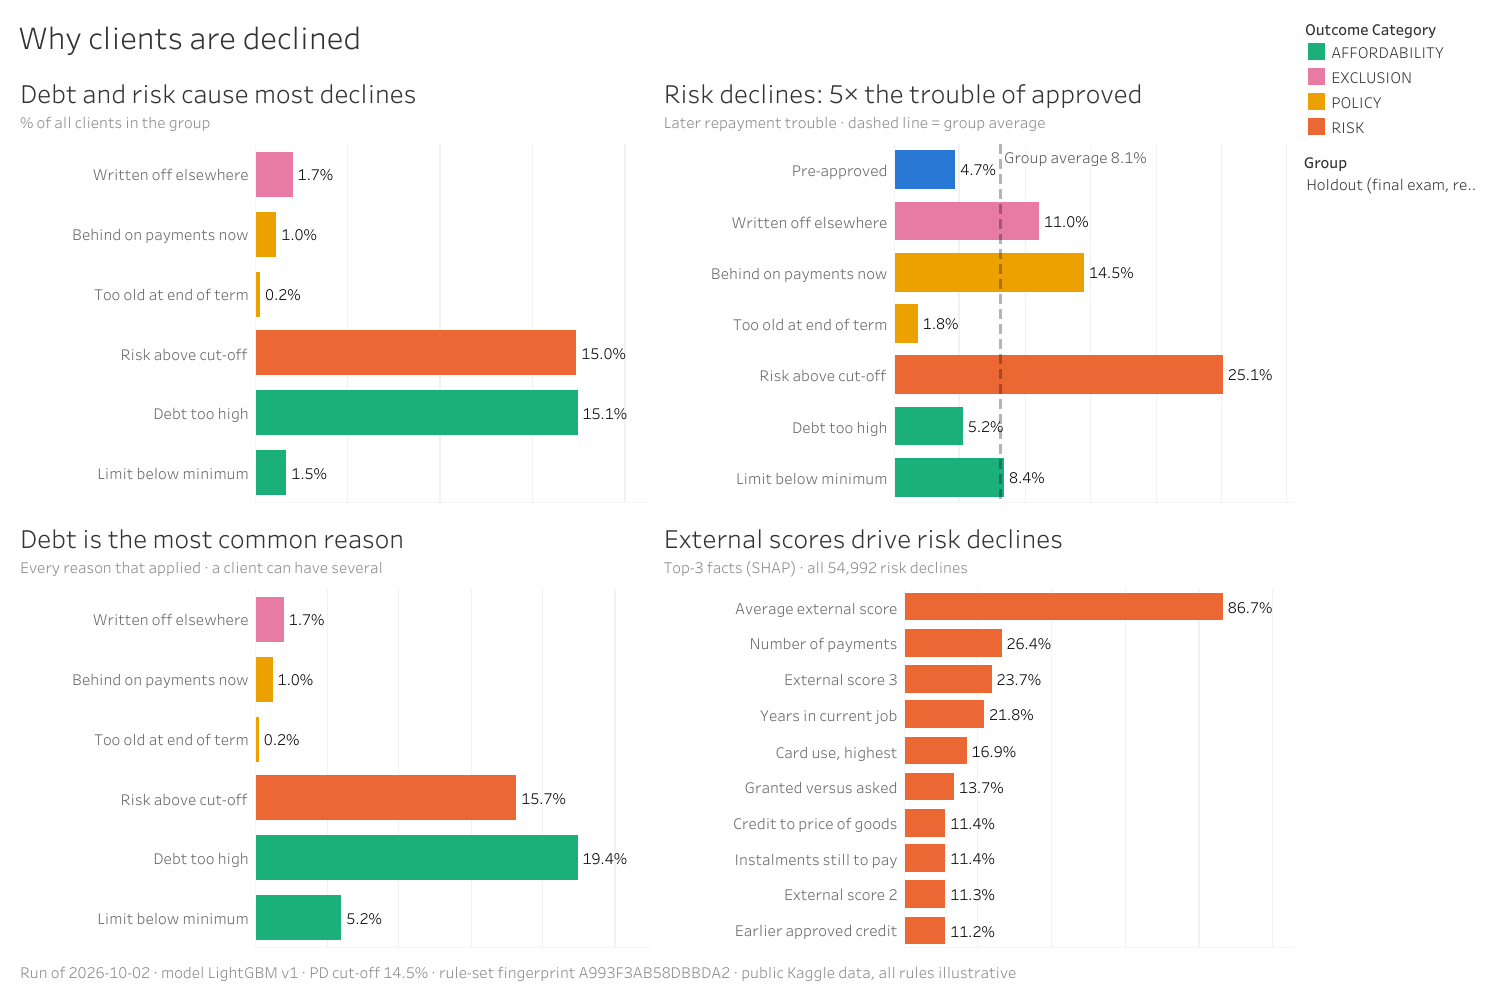

The dashboard page shown, as its layout file describes it:
{"tool":"tableau","page":{"name":"2 - Why declined","canvas":[1200,800],"ordinal":1},"visuals":[{"type":"title","box":[8,8,1031,50]},{"type":"legend","title":"Main reason","param":"[federated.0v748wk062qxw415l8qxm154rhy6].[none:outcome_category:nk]","box":[1039,8,153,114]},{"type":"worksheet","title":"Main reason","mark":"Automatic","rows":["outcome_label"],"cols":["clients"],"box":[8,58,515.5,352]},{"type":"worksheet","title":"Trouble by outcome","mark":"Automatic","rows":["outcome_label"],"cols":["Calculation_0193564069408768"],"box":[523.5,58,515.5,352]},{"type":"parameter","param":"[Parameters].[Parameter 0193564081881089]","box":[1039,122,153,56]},{"type":"worksheet","title":"All reasons","mark":"Automatic","rows":["description"],"cols":["clients"],"box":[8,410,515.5,352]},{"type":"worksheet","title":"Risk facts","mark":"Automatic","rows":["short_label"],"cols":["share_in_top3"],"box":[523.5,410,515.5,352]},{"type":"worksheet","title":"Run footer","mark":"Text","box":[8,762,1031,30]}]}

Visuals, with their boxes in screenshot pixels (x1, y1, x2, y2), scaled from the page's 1200x800 canvas onto the 1499x999 screenshot:
title: x1=10 y1=10 x2=1298 y2=72
"Main reason" legend: x1=1298 y1=10 x2=1489 y2=152
"Main reason" worksheet: x1=10 y1=72 x2=654 y2=512
"Trouble by outcome" worksheet: x1=654 y1=72 x2=1298 y2=512
parameter: x1=1298 y1=152 x2=1489 y2=222
"All reasons" worksheet: x1=10 y1=512 x2=654 y2=952
"Risk facts" worksheet: x1=654 y1=512 x2=1298 y2=952
"Run footer" worksheet (Text marks): x1=10 y1=952 x2=1298 y2=989
